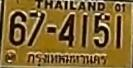1: (115, 16, 120, 48), (81, 15, 86, 46)
4: (58, 13, 74, 46)
5: (93, 14, 109, 47)
6: (9, 11, 26, 45)
7: (28, 11, 44, 45)
BKK: (25, 50, 106, 68)
